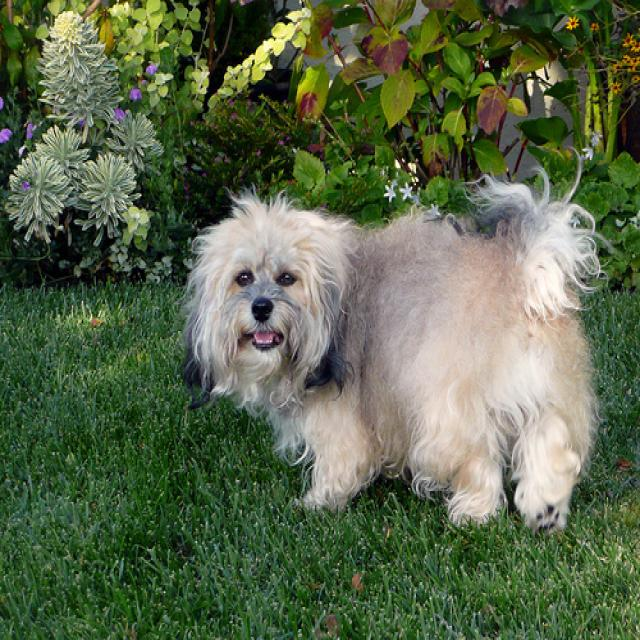dog: (177, 207, 346, 386)
